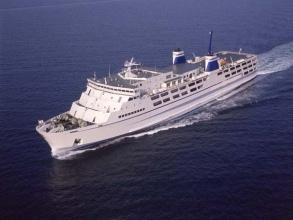youlun: (27, 42, 264, 154)
